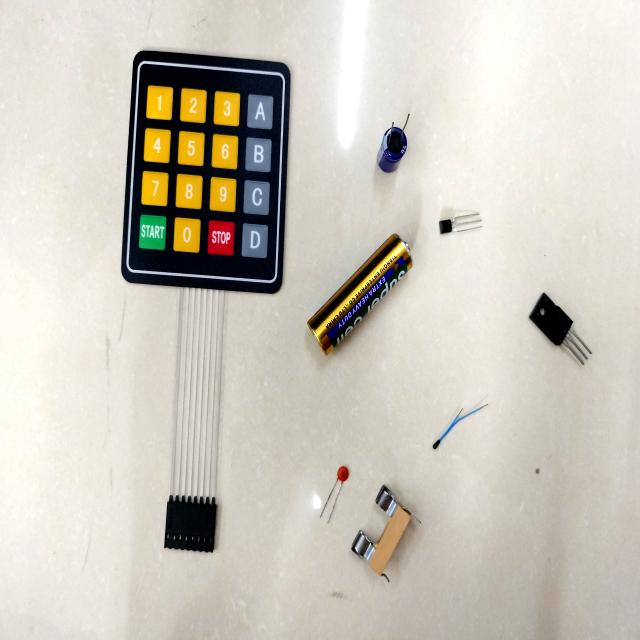capacitor: (377, 127, 407, 173), (337, 466, 349, 483)
